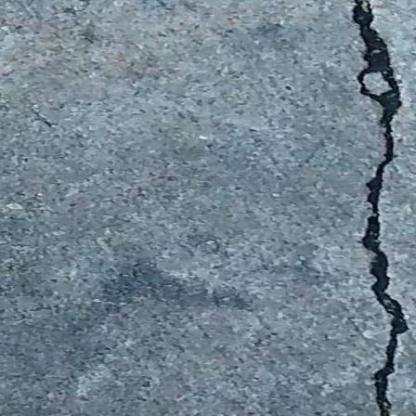Cracks: (338, 0, 416, 416)
